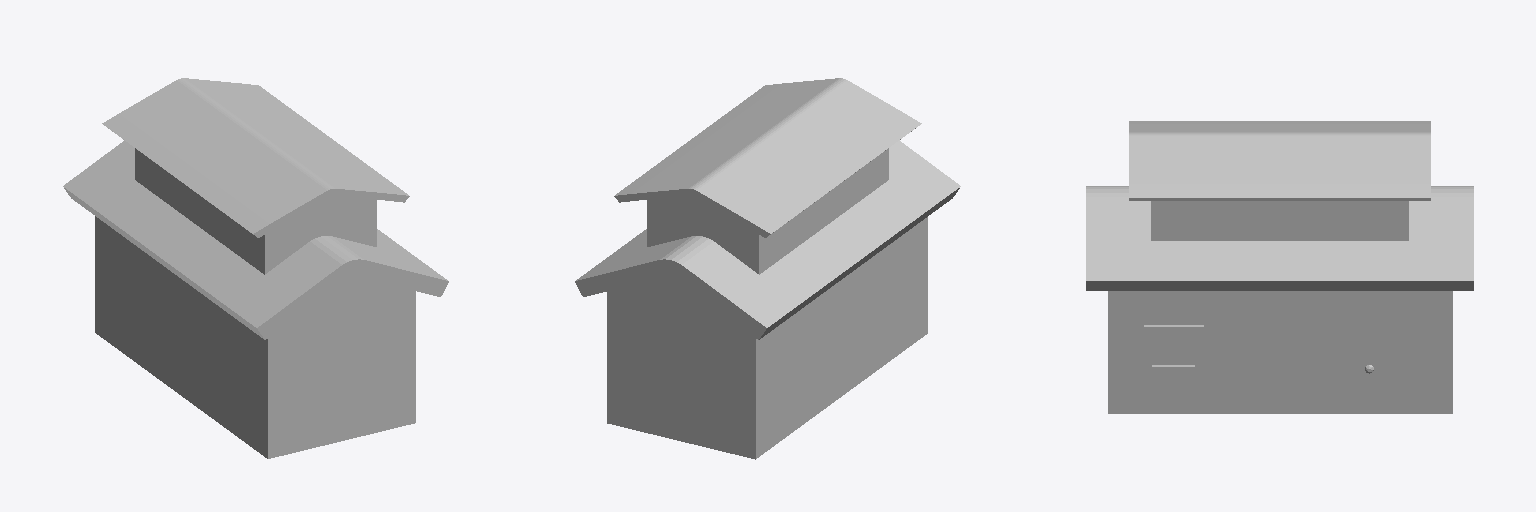
The model's file is littleroot_house.obj.
3 renders of one model, left to right at view 1: azimuth 30°, elevation 25°; view 2: azimuth 150°, elevation 25°; view 3: azimuth 270°, elevation 25°, orthographic.
Visible parts, largest first — view 1: Cube, Cube.002, roof, Cube.001; view 2: Cube, Cube.002, roof, Cube.001; view 3: Cube, roof, Cube.002, Cube.001, Cube.003.
Boxes of the visible parts, x1=… form: Cube: x1=95, y1=216, x2=415, y2=458; Cube.002: x1=102, y1=78, x2=409, y2=237; roof: x1=63, y1=140, x2=448, y2=339; Cube.001: x1=135, y1=148, x2=376, y2=274; Cube: x1=607, y1=217, x2=927, y2=459; Cube.002: x1=614, y1=78, x2=921, y2=237; roof: x1=575, y1=140, x2=960, y2=339; Cube.001: x1=647, y1=148, x2=888, y2=274; Cube: x1=1108, y1=291, x2=1452, y2=413; roof: x1=1086, y1=186, x2=1473, y2=290; Cube.002: x1=1129, y1=121, x2=1430, y2=200; Cube.001: x1=1151, y1=201, x2=1408, y2=240; Cube.003: x1=1144, y1=325, x2=1203, y2=373.
Size of the model in its own units: 5.15 by 6.25 by 9.